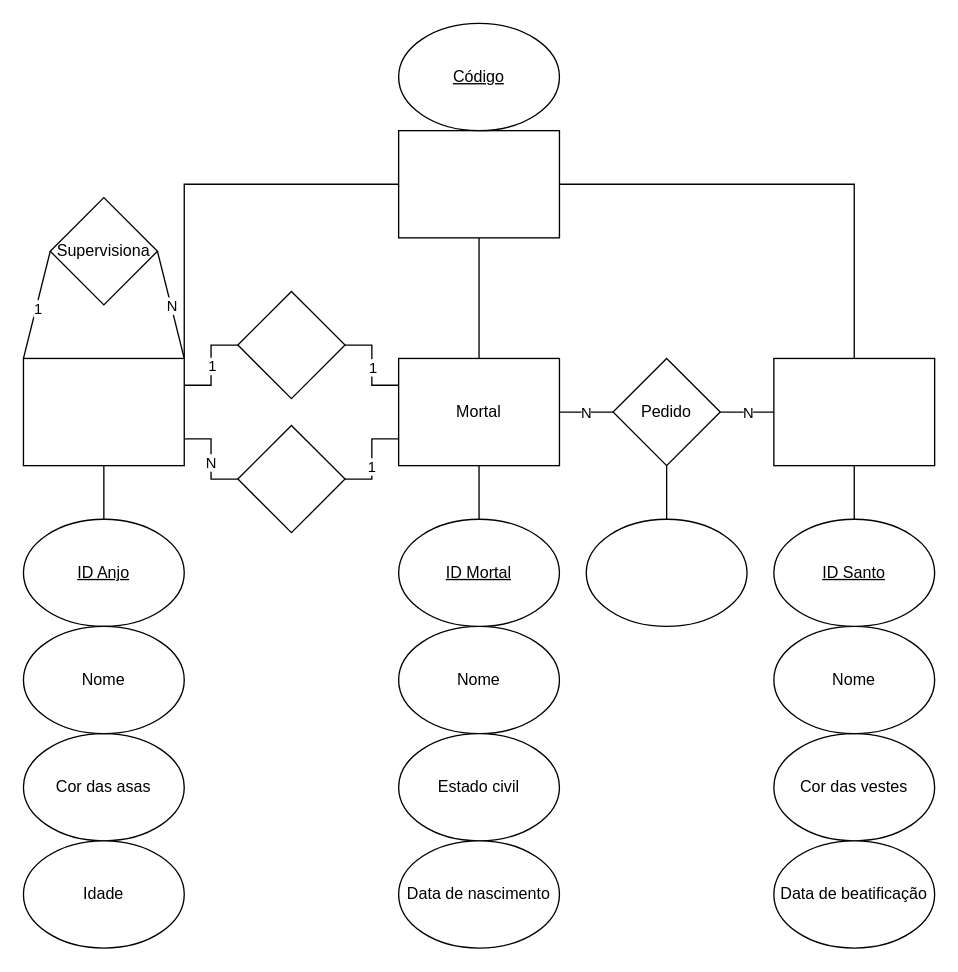
This 958x972 diagram has some shape labels left out. Each missing label, with the box of its shape:
Alocado: (237, 290, 345, 399)
Anjo: (22, 357, 184, 466)
Deus: (397, 129, 559, 238)
Guarda: (237, 424, 345, 533)
Milagre?: (585, 518, 747, 626)
Santo: (773, 357, 935, 466)
